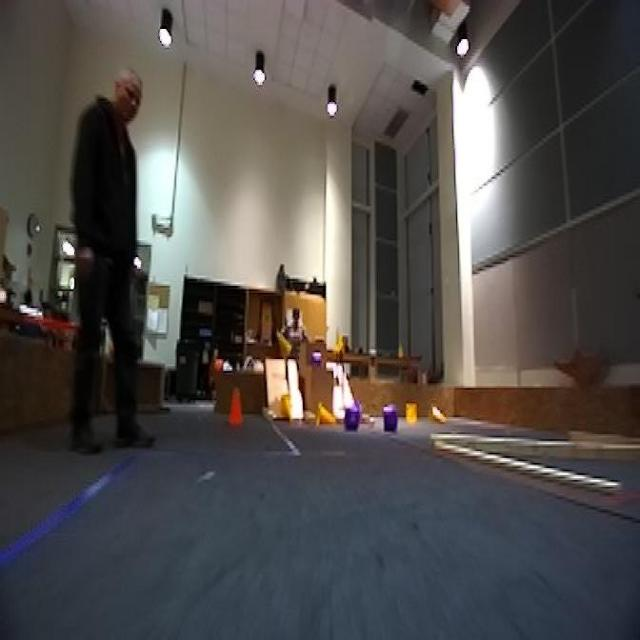frc_cone: (270, 322, 292, 364), (315, 403, 337, 428), (426, 405, 450, 426), (280, 391, 293, 424), (331, 325, 345, 354), (405, 396, 418, 426)
frc_cube: (346, 405, 360, 427), (309, 352, 324, 370), (384, 412, 394, 429)
